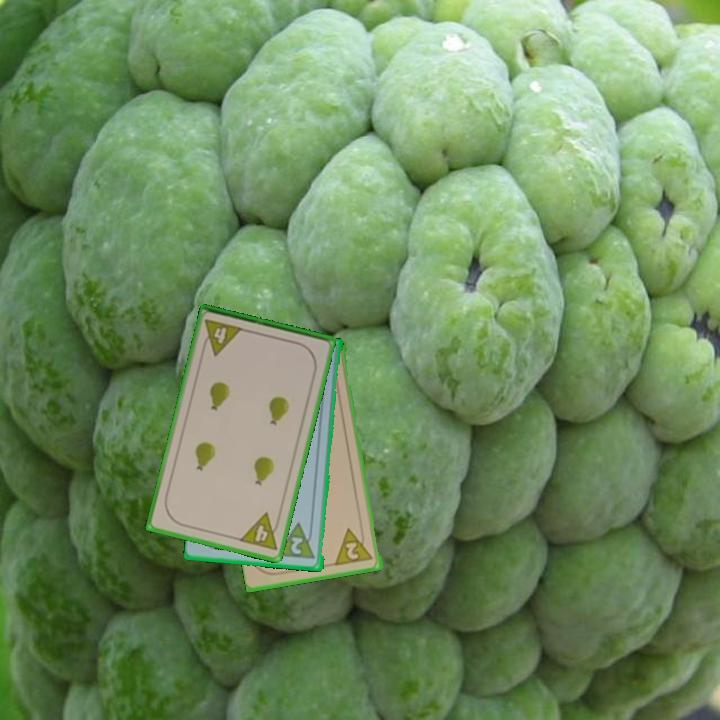2p: (333, 524, 376, 569), (275, 520, 318, 562)
4p: (236, 509, 284, 554), (198, 316, 246, 358)
